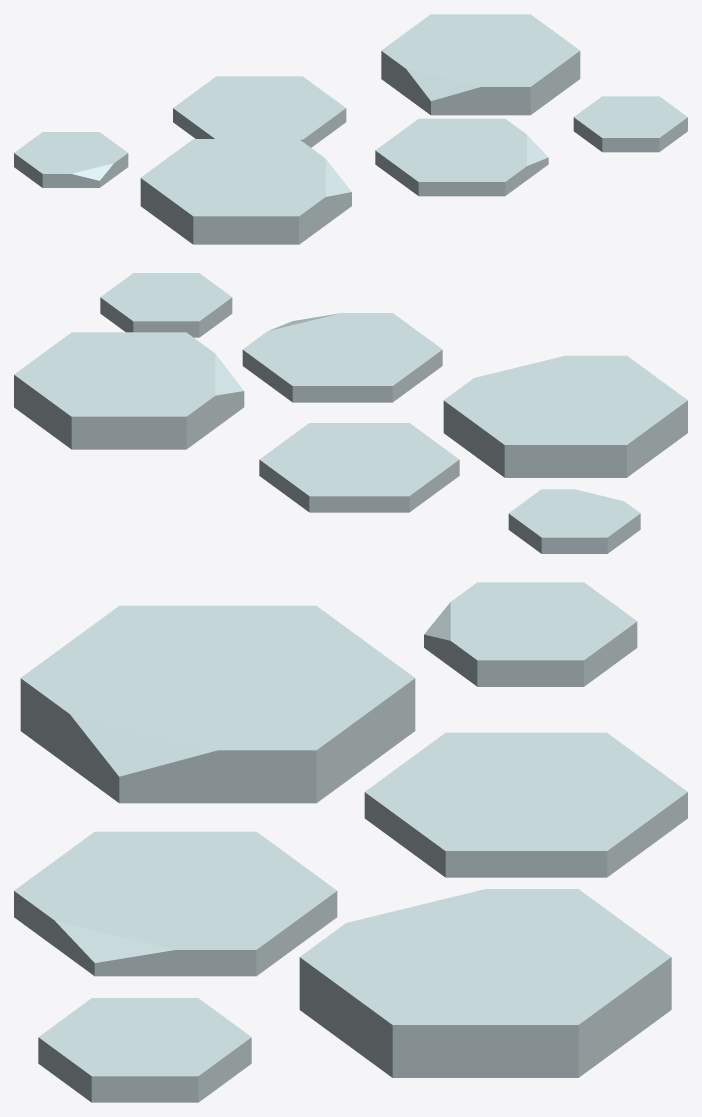
The model's file is path_stone.gltf.
3 renders of one model, top to bottom at view 1: azimuth 30°, elevation 25°; view 2: azimuth 150°, elevation 25°; view 3: azimuth 270°, elevation 25°, orthographic. The views are drawn at different scales.
Visible parts, largest first — view 1: path_stone; view 2: path_stone; view 3: path_stone.
Boxes of the visible parts, left/top/right/bottom form: path_stone: left=14, top=14, right=687, bottom=244; path_stone: left=14, top=273, right=687, bottom=553; path_stone: left=14, top=582, right=687, bottom=1102.
Size of the model in its own units: 1 by 0.05 by 0.5766.
